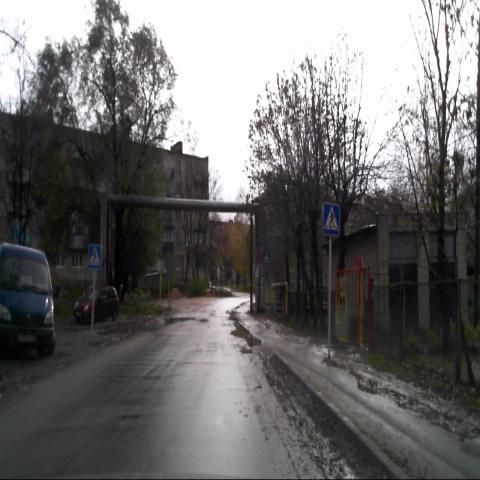3_27: (254, 248, 264, 265)
5_19_1: (323, 202, 340, 237), (88, 244, 102, 269)
5_20: (262, 250, 270, 265)
